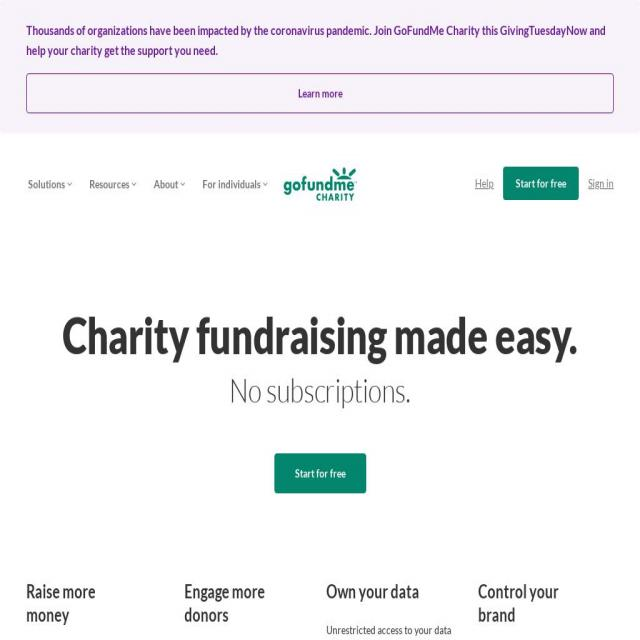login-option: (585, 173, 619, 200)
navigation-links: (15, 162, 280, 193)
